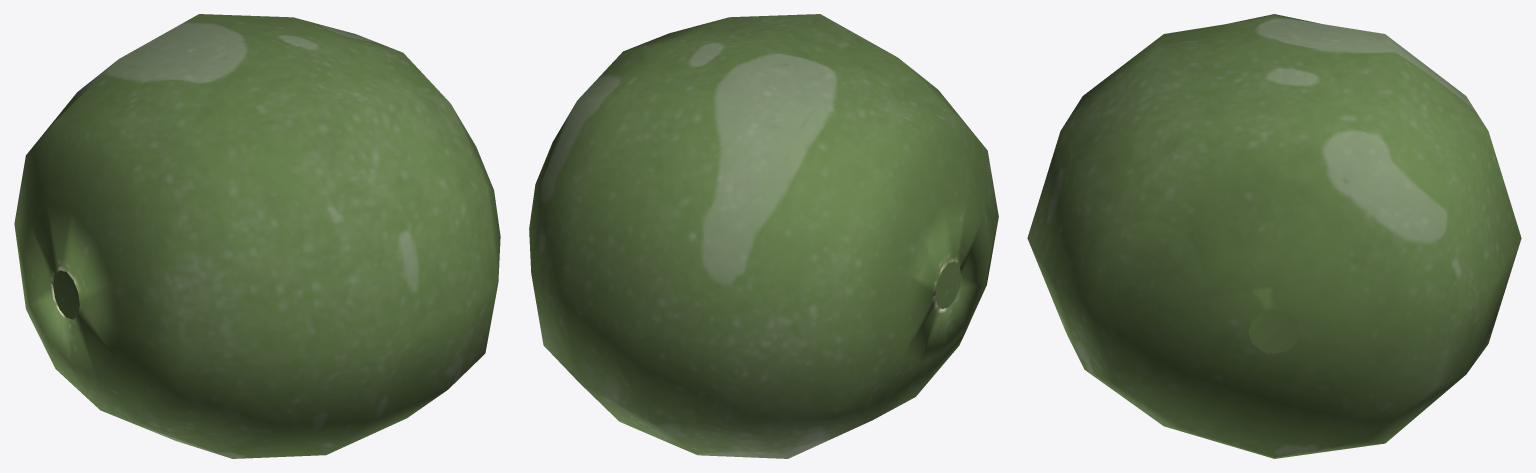
File: Model_SansyokuDango_02.fbx
The picture shows the model from 3 angles, left to right: view 1: azimuth 30°, elevation 25°; view 2: azimuth 150°, elevation 25°; view 3: azimuth 270°, elevation 25°; orthographic projection. The views are drawn at different scales.
Visible parts, largest first — view 1: polySurface3; view 2: polySurface3; view 3: polySurface3.
Boxes of the visible parts, box(x1,y1,x2,y2) form: polySurface3: box(14, 14, 500, 458); polySurface3: box(529, 14, 998, 458); polySurface3: box(1027, 14, 1521, 458).
Bounding box in the file's own units: 179 × 172 × 200.
